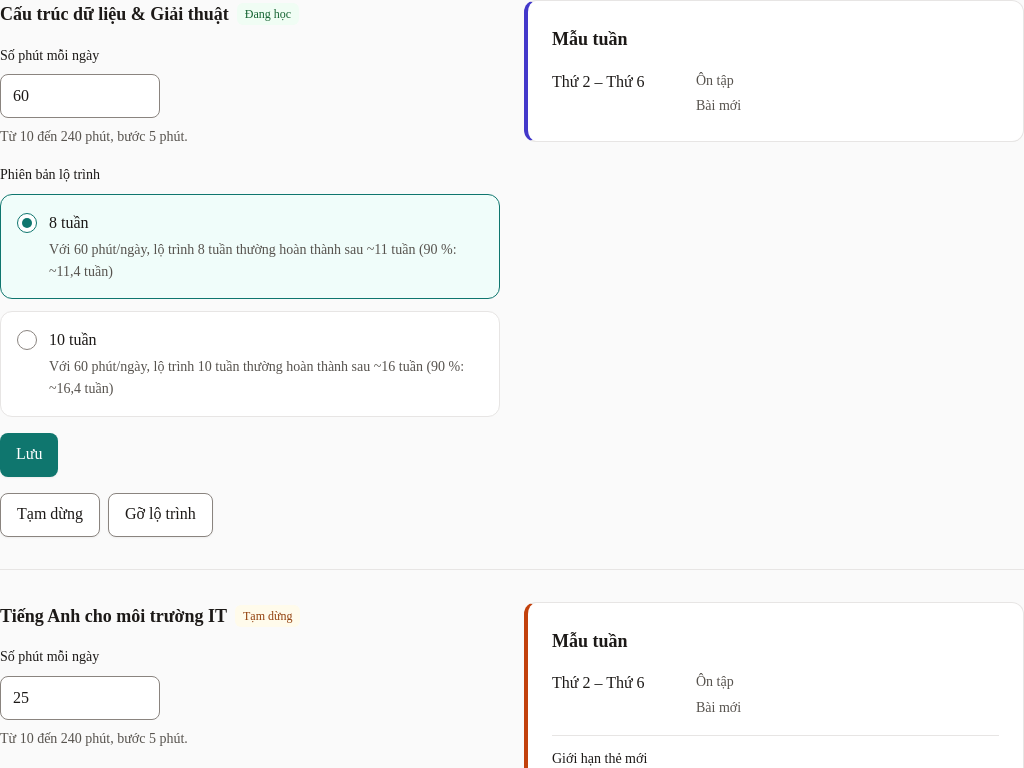
it: TrackSettings — pause, resume, remove › "Huỷ" closes the dialog without removing
Click the button "Gỡ lộ trình" at (160, 515), box left=108, top=493, right=213, bottom=537
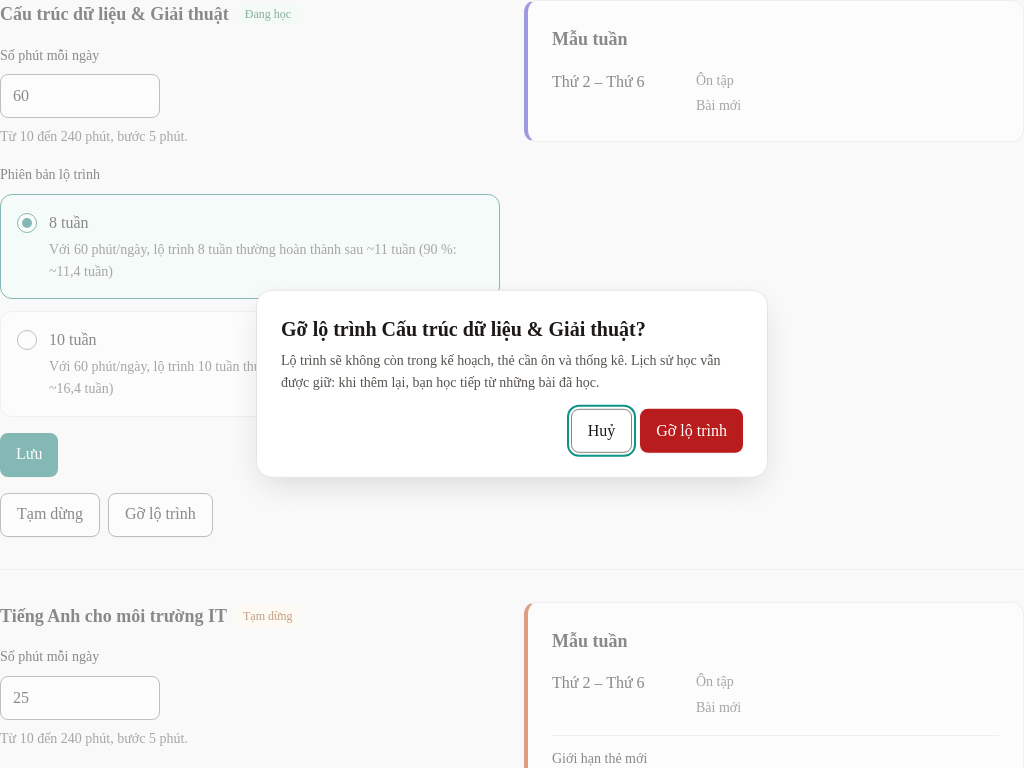
Click the button "Huỷ" at (602, 431), box left=571, top=409, right=632, bottom=453
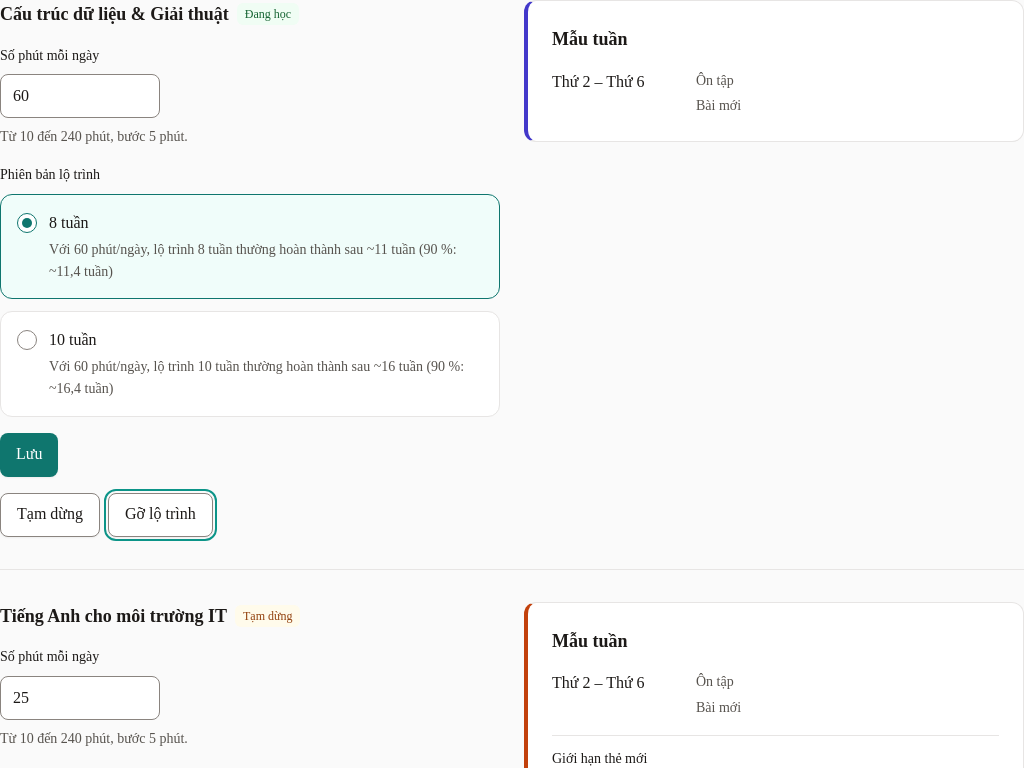
expect the dialog is gone: met
